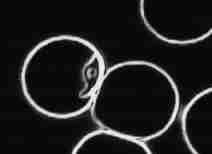Malaria: (17, 31, 101, 124), (93, 57, 178, 139)
